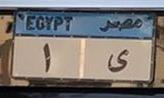1: (39, 42, 56, 75)
yaa: (104, 47, 131, 75)
